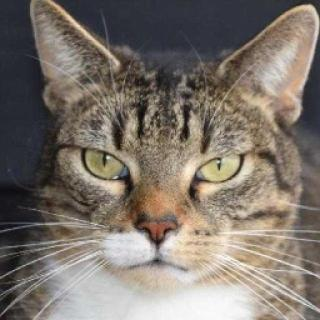cat: (20, 0, 318, 296)
nose: (128, 194, 185, 243)
